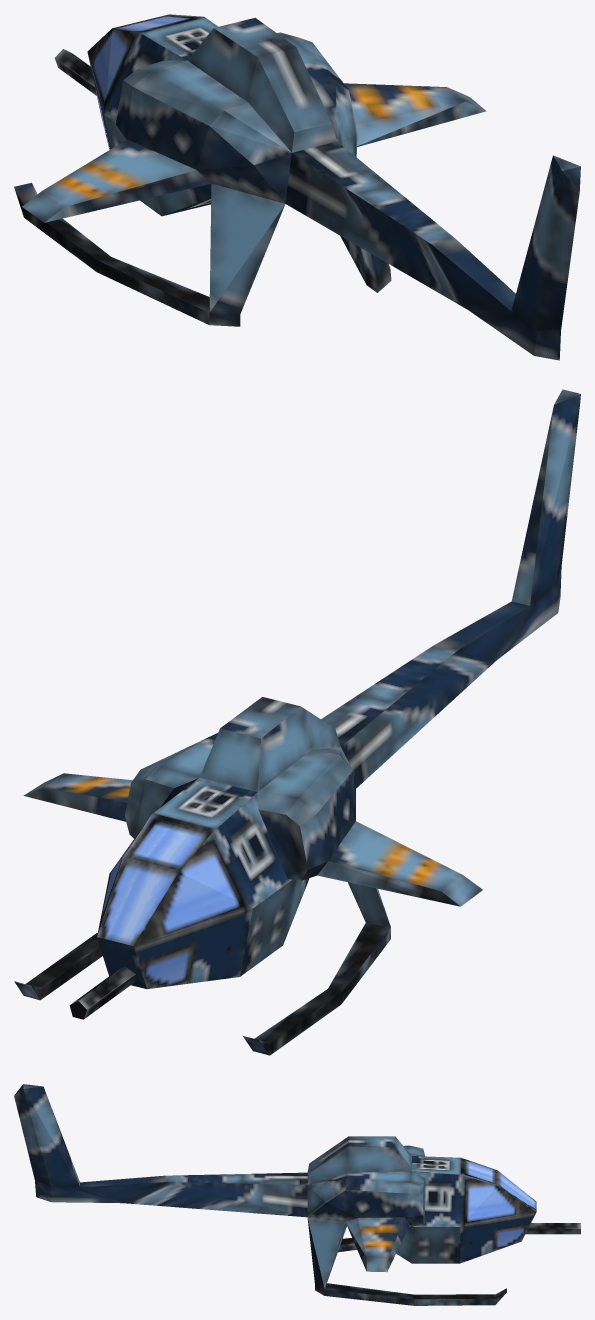
The model's file is sucker.obj.
3 views of the same model, one above another, from view 1: azimuth 30°, elevation 25°; view 2: azimuth 150°, elevation 25°; view 3: azimuth 270°, elevation 25° (orthographic). The views are drawn at different scales.
Parts seen in each view (by area): view 1: Sucker; view 2: Sucker; view 3: Sucker.
Part boxes in pixels (x1,y1,x2,y2): Sucker: (14,14,580,360); Sucker: (14,389,580,1055); Sucker: (14,1084,580,1305).
Bounding box in the file's own units: 5.58 × 4 × 11.11.
Materials: 1 (1 with a texture image).
